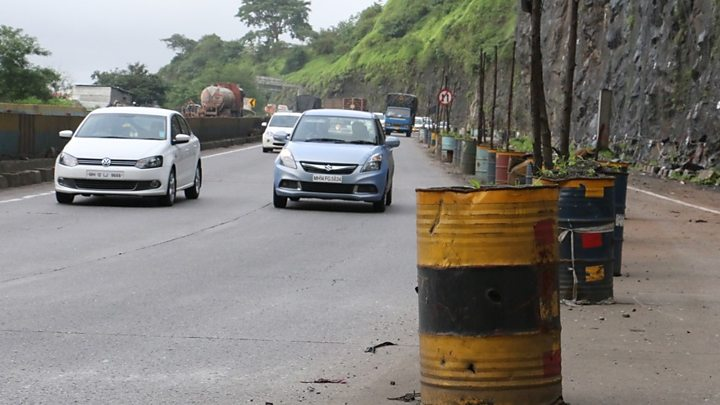car: (50, 110, 206, 208), (269, 113, 399, 212), (381, 92, 416, 141)
